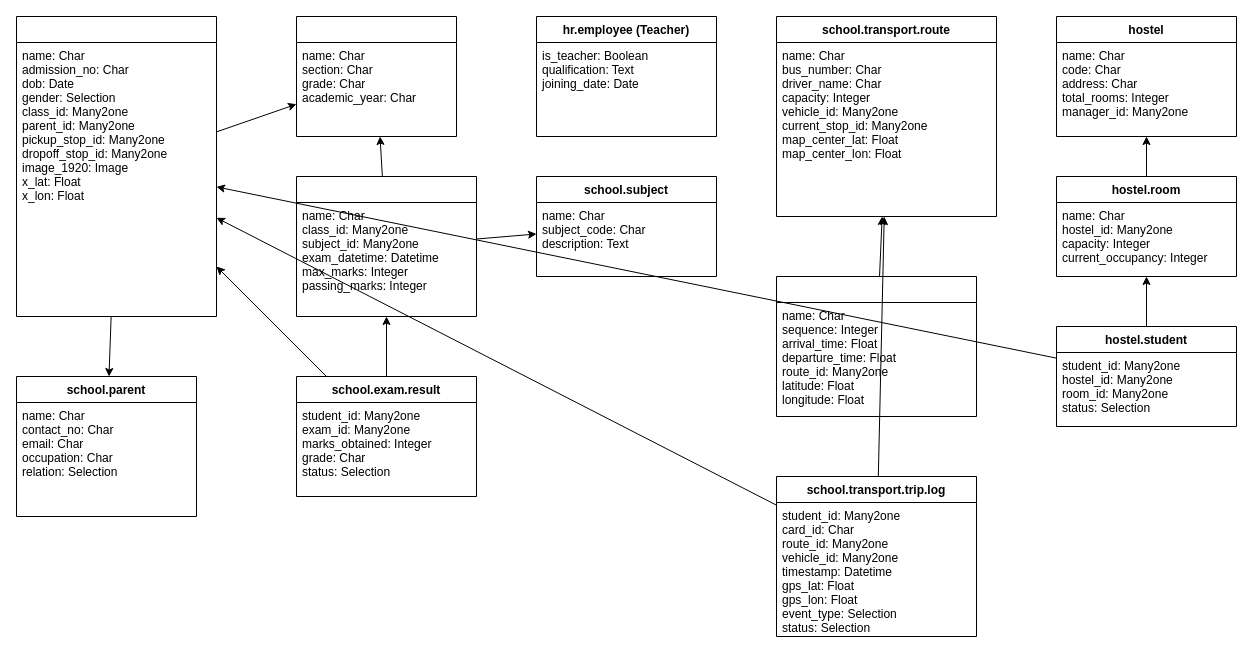
This 1253x653 diagram has some shape labels left out. The shapes that lost their labels are listed below. From the top down, each one's box as (x1, y1, x2, y2) in pixels, then its label:
(296, 16, 456, 136): school.class
(16, 16, 216, 316): school.student
(296, 176, 476, 316): school.exam
(776, 276, 976, 416): school.transport.stop
